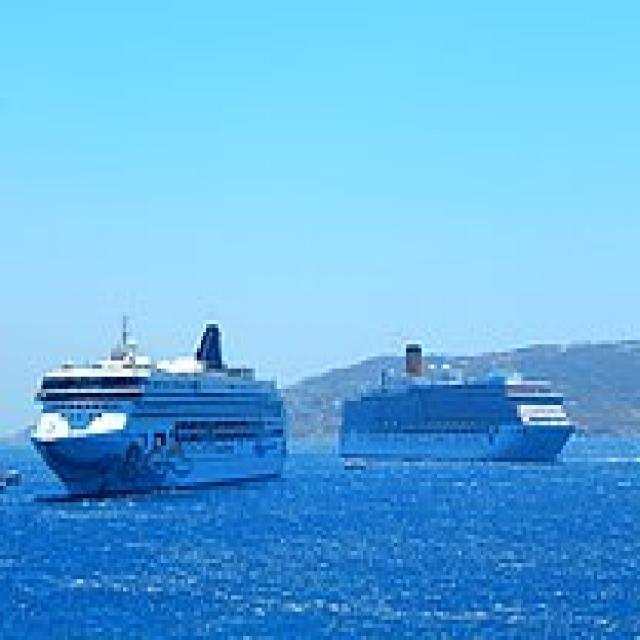Ship: (26, 317, 294, 508), (330, 333, 589, 483)
